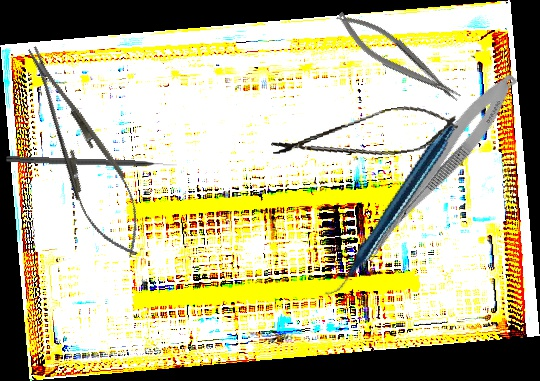Handpiece: (284, 121, 495, 296)
Hook Surgical: (5, 156, 178, 170)
Micro Scissor: (355, 64, 524, 275), (268, 98, 461, 174)
Needle Holder: (8, 35, 159, 268), (330, 1, 466, 115)
